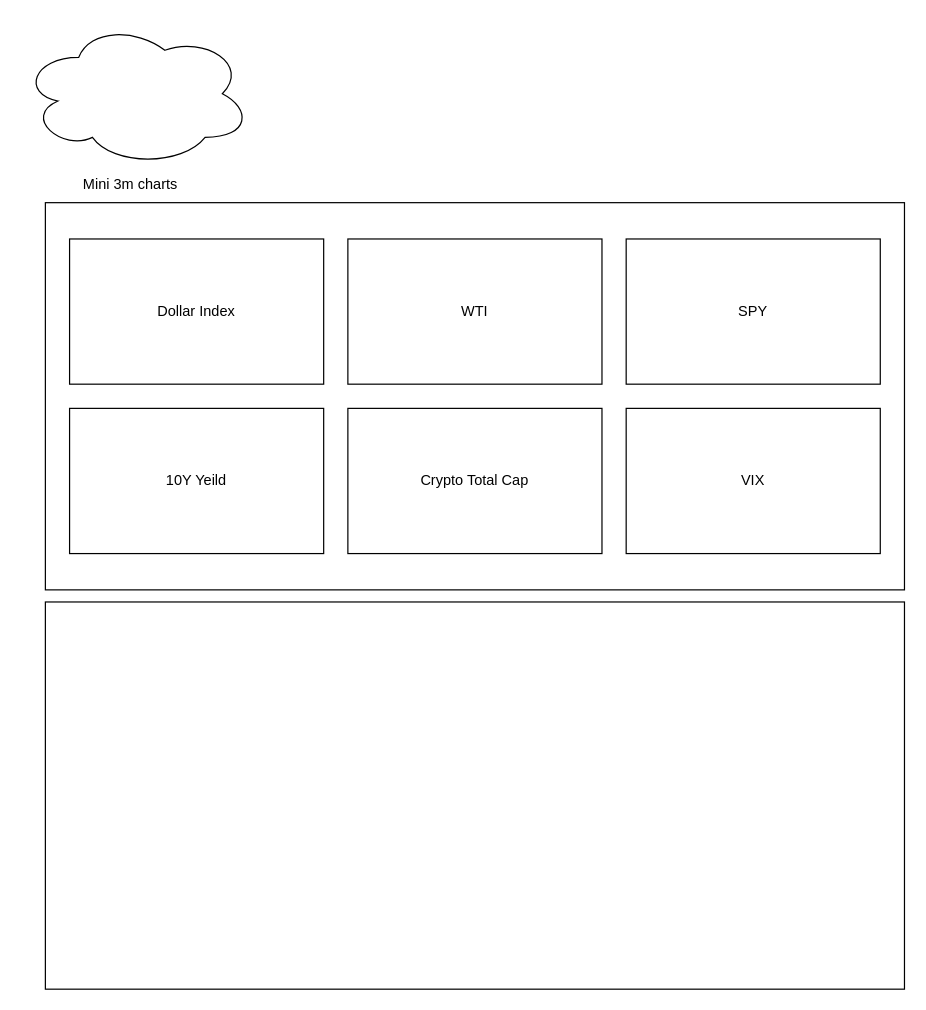
This 926x1010 diagram has some shape labels left out. The shapes that lost their labels are listed below. From the top down, each one's centre as x and y in pixels, then its label:
At (x=135, y=93): "TradingView Widgets".
At (x=474, y=795): "TradingView Indices news headlines".
